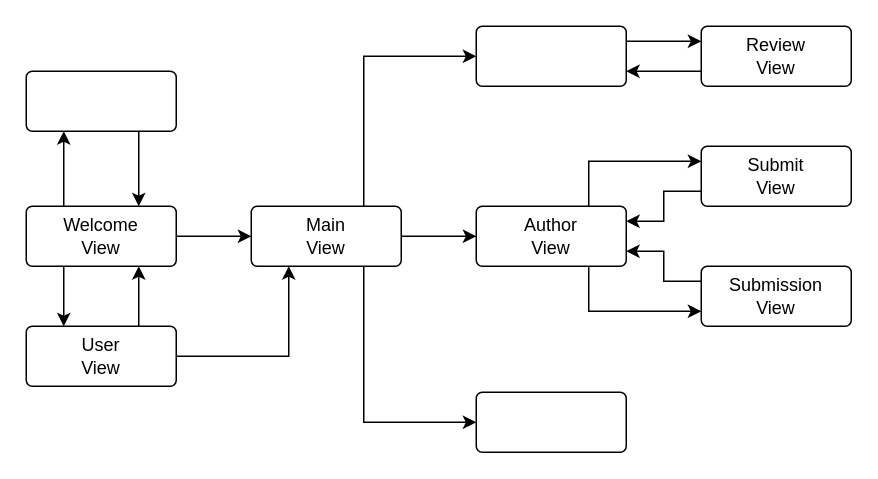
Some shapes in this 878 by 479 pixel diagram are drawn without their labels. Here are the shapes that lost their labels. From the top down, the centre of each, then its label:
At pixel 550 55: "Reviewer View".
At pixel 100 100: "Reader View".
At pixel 550 421: "Editor View".
